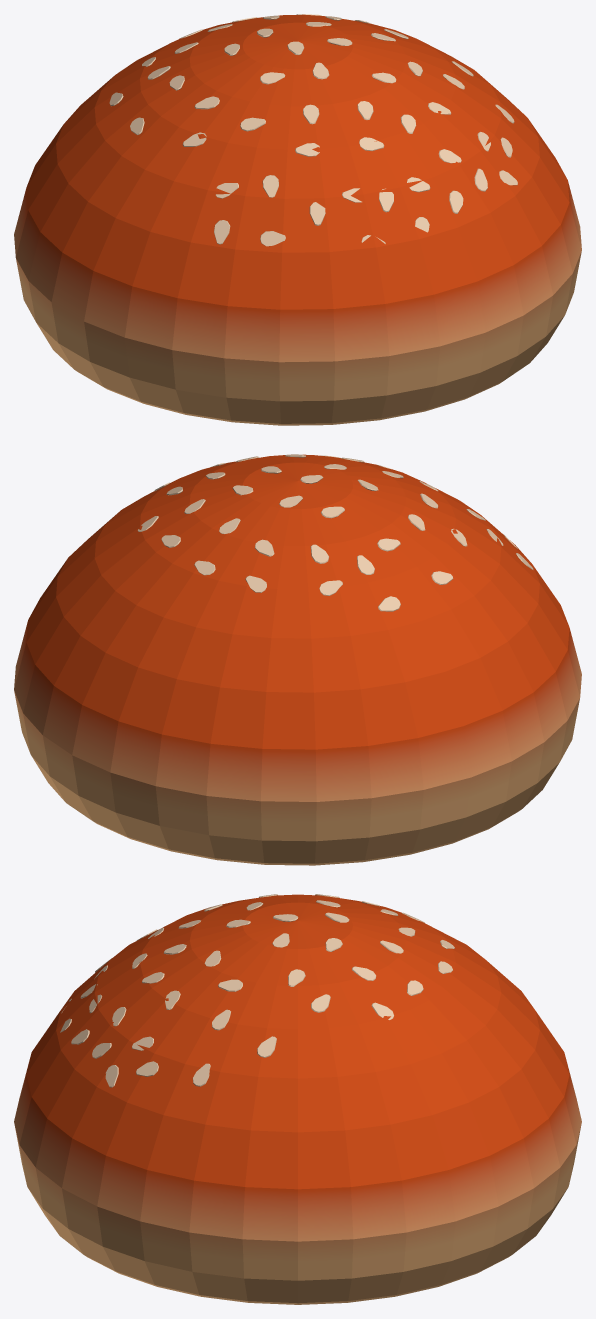
The model's file is bread-low-poly.fbx.
The picture shows the model from 3 angles, top to bottom: view 1: azimuth 30°, elevation 25°; view 2: azimuth 150°, elevation 25°; view 3: azimuth 270°, elevation 25°; orthographic projection.
Visible parts, largest first — view 1: gornja; view 2: gornja; view 3: gornja.
Part boxes in pixels (x1,y1,x2,y2): gornja: [14, 14, 581, 425]; gornja: [14, 454, 581, 865]; gornja: [14, 894, 581, 1304].
Size of the model in its own units: 254 by 138 by 254.
2 materials, 1 textured.
